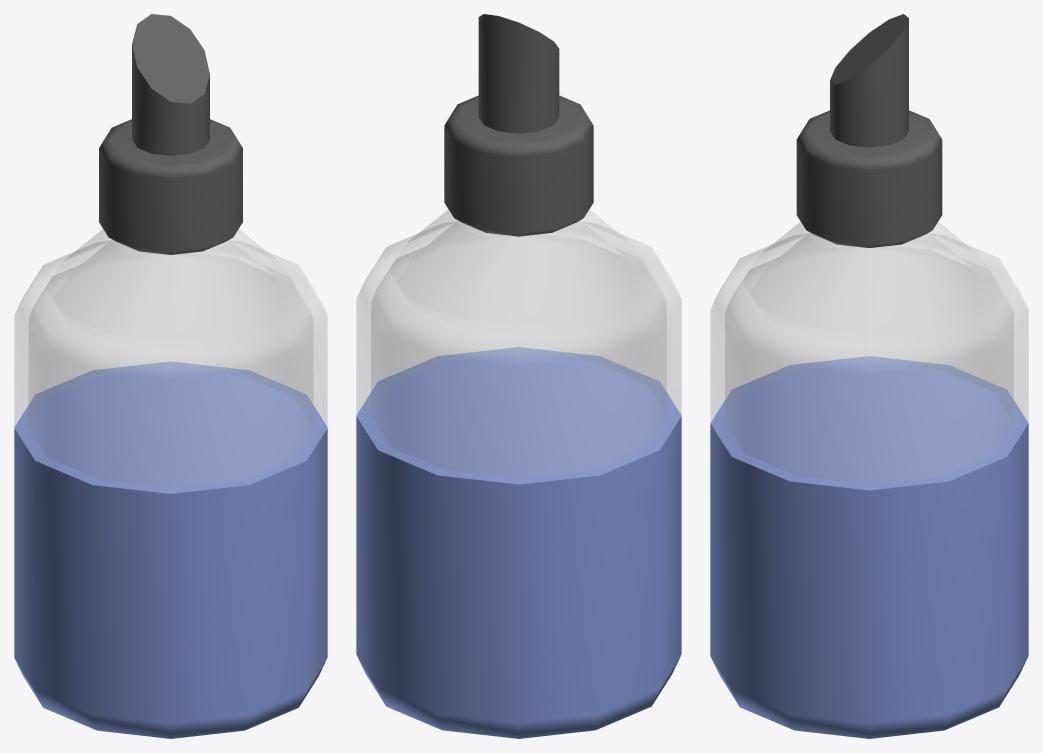
The model's file is bottle.fbx.
The picture shows the model from 3 angles, left to right: view 1: azimuth 30°, elevation 25°; view 2: azimuth 150°, elevation 25°; view 3: azimuth 270°, elevation 25°; orthographic projection. The views are drawn at different scales.
Visible parts, largest first — view 1: bottle; view 2: bottle; view 3: bottle.
Boxes of the visible parts, x1,y1,x2,y2 form: bottle: (14, 14, 327, 738); bottle: (356, 14, 681, 738); bottle: (710, 14, 1028, 738).
Bounding box in the file's own units: 16.7 × 38.55 × 16.7.
